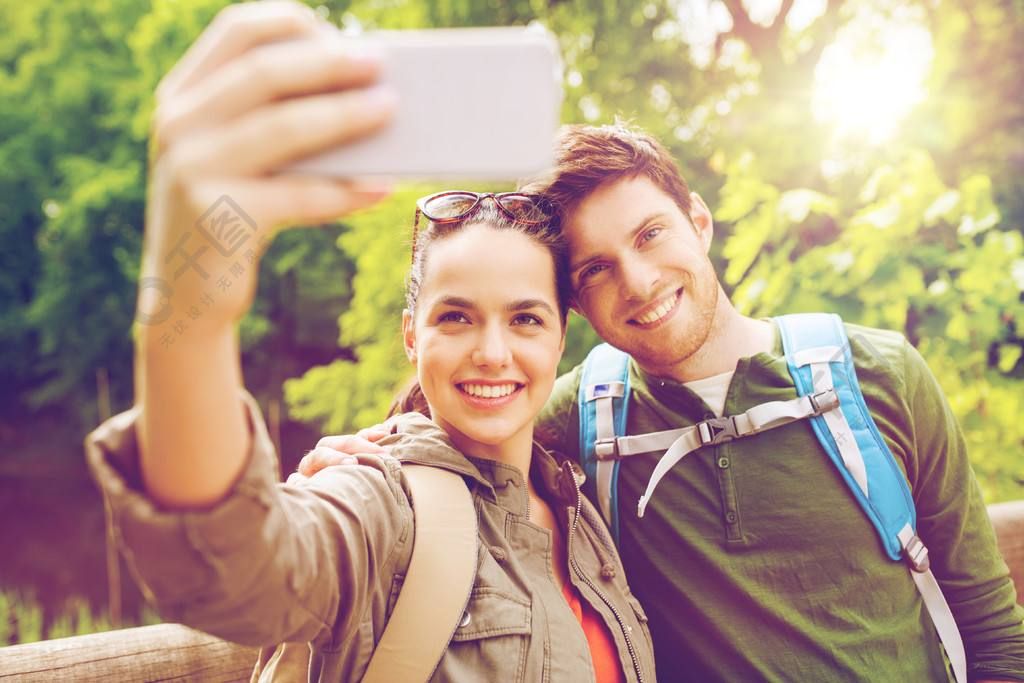taking photos: (131, 1, 576, 325)
